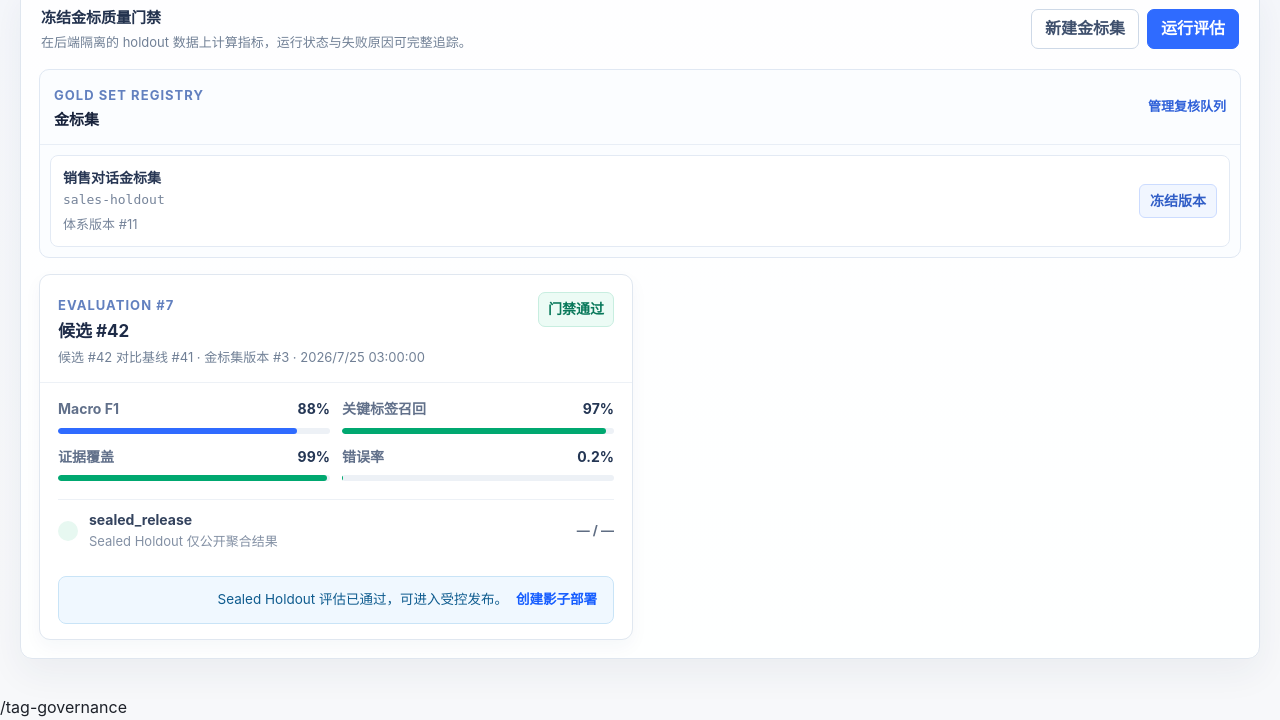
it: TagGovernancePage › offers a shadow-deployment CTA on passed sealed-holdout evaluations that prefills the id
The image size is (1280, 720).
(page scrolled)
Expected: the text "Macro F1" is shown, left=58, top=398, right=119, bottom=421
Click the link "创建影子部署".
click(556, 600)  # box left=516, top=589, right=597, bottom=611
(page scrolled)
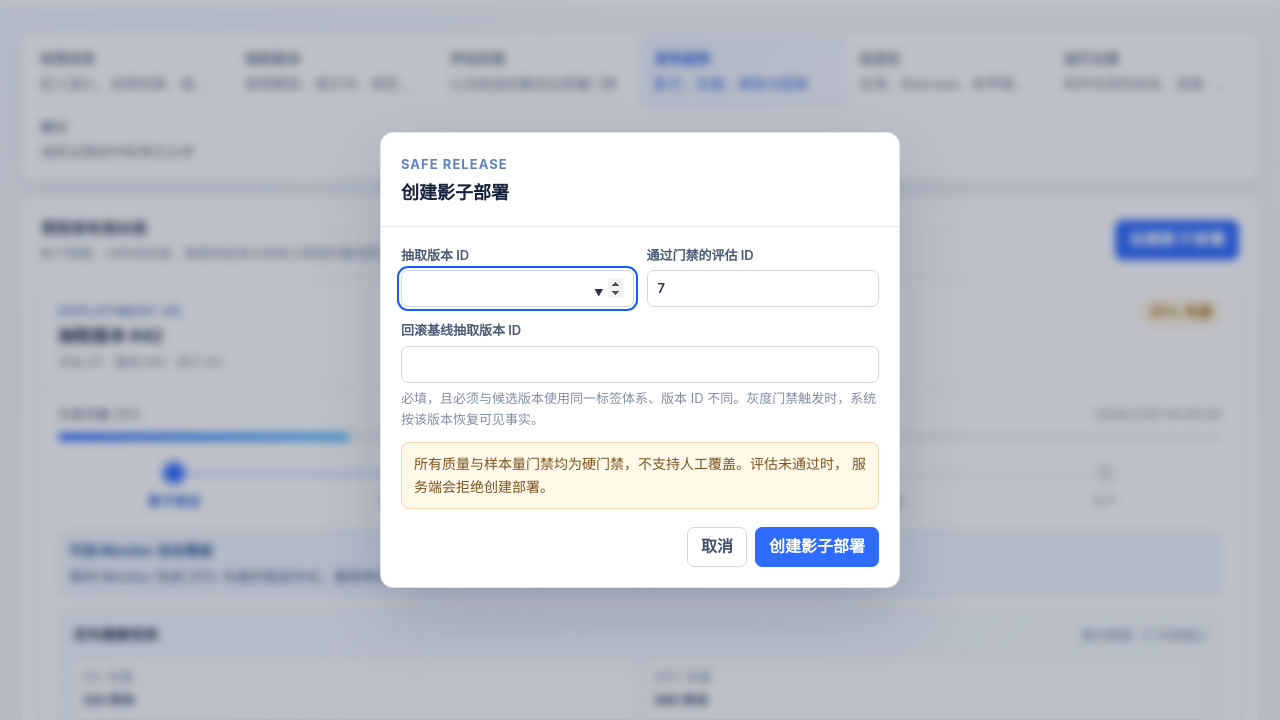
Expected: the number field named "部署评估 ID" holds "7", left=646, top=270, right=879, bottom=307
